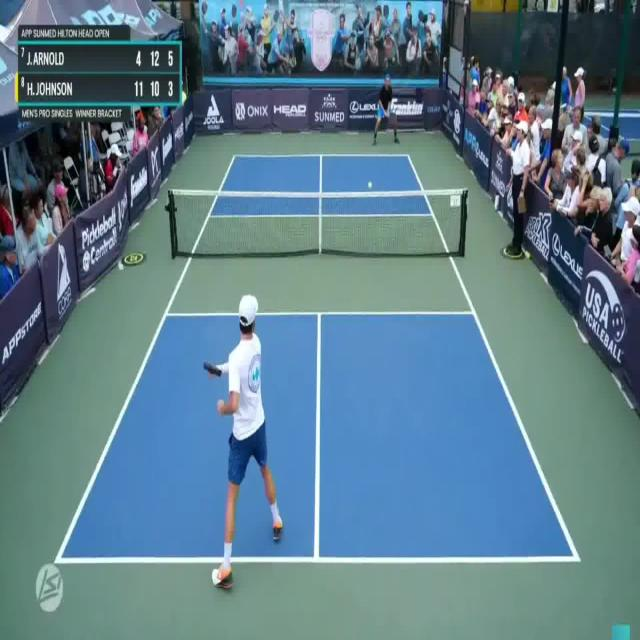Court: (59, 156, 580, 558)
ball: (365, 175, 377, 198)
